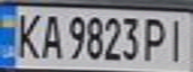2: (103, 14, 124, 62)
3: (121, 14, 145, 62)
8: (84, 12, 106, 61)
9: (63, 11, 87, 61)
A: (36, 10, 63, 61)
I: (163, 15, 193, 63)
K: (9, 9, 45, 60)
P: (139, 15, 172, 63)
